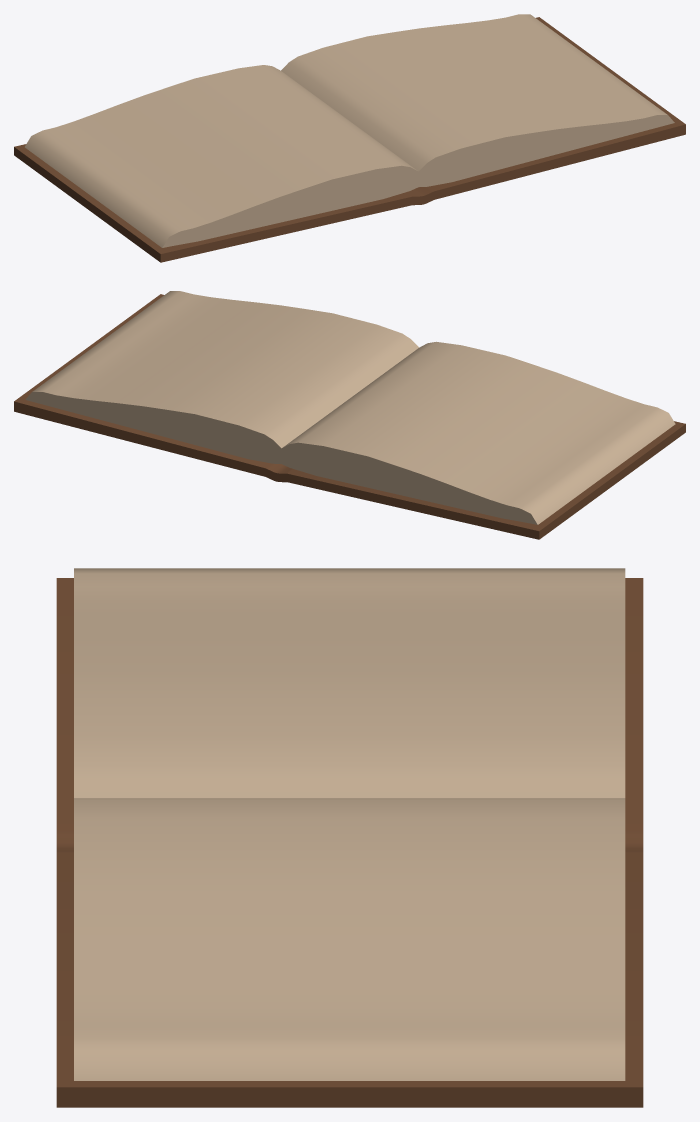
File: caderno.fbx
3 views of the same model, one above another, from view 1: azimuth 30°, elevation 25°; view 2: azimuth 150°, elevation 25°; view 3: azimuth 270°, elevation 25° (orthographic). The views are drawn at different scales.
Visible parts, largest first — view 1: Paginas, CapaLivro; view 2: Paginas, CapaLivro; view 3: Paginas, CapaLivro.
Part boxes in pixels (x1=…): Paginas: x1=25, y1=14, x2=674, y2=247; CapaLivro: x1=14, y1=17, x2=685, y2=262; Paginas: x1=25, y1=291, x2=675, y2=524; CapaLivro: x1=14, y1=294, x2=685, y2=539; Paginas: x1=74, y1=568, x2=625, y2=1080; CapaLivro: x1=56, y1=578, x2=643, y2=1107.
Bounding box in the file's own units: 4424 × 347 × 2141.
